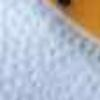black: (56, 0, 72, 8)
